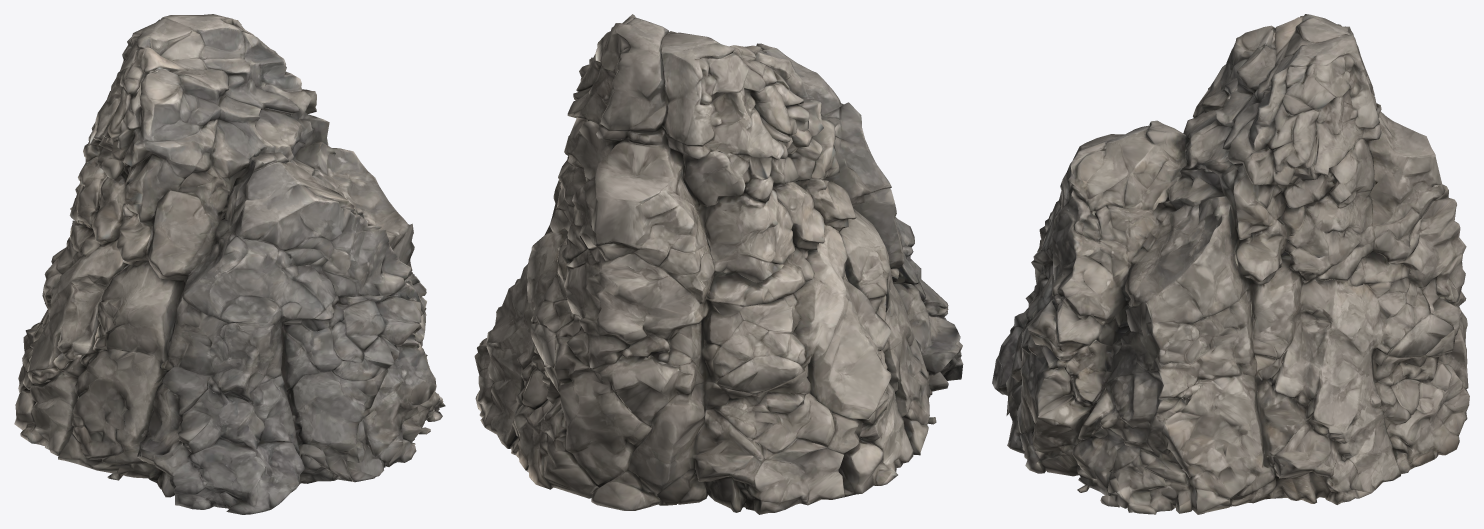
The model's file is crag_b.glb.
The picture shows the model from 3 angles, left to right: view 1: azimuth 30°, elevation 25°; view 2: azimuth 150°, elevation 25°; view 3: azimuth 270°, elevation 25°; orthographic projection. The views are drawn at different scales.
Parts seen in each view (by area): view 1: crag_b; view 2: crag_b; view 3: crag_b.
Boxes of the visible parts, box(x1,y1,x2,y2) form: crag_b: box(14, 14, 445, 514); crag_b: box(474, 14, 963, 514); crag_b: box(992, 14, 1469, 514).
Size of the model in its own units: 60.16 by 58.03 by 65.22.
Materials: 1 (1 with a texture image).
